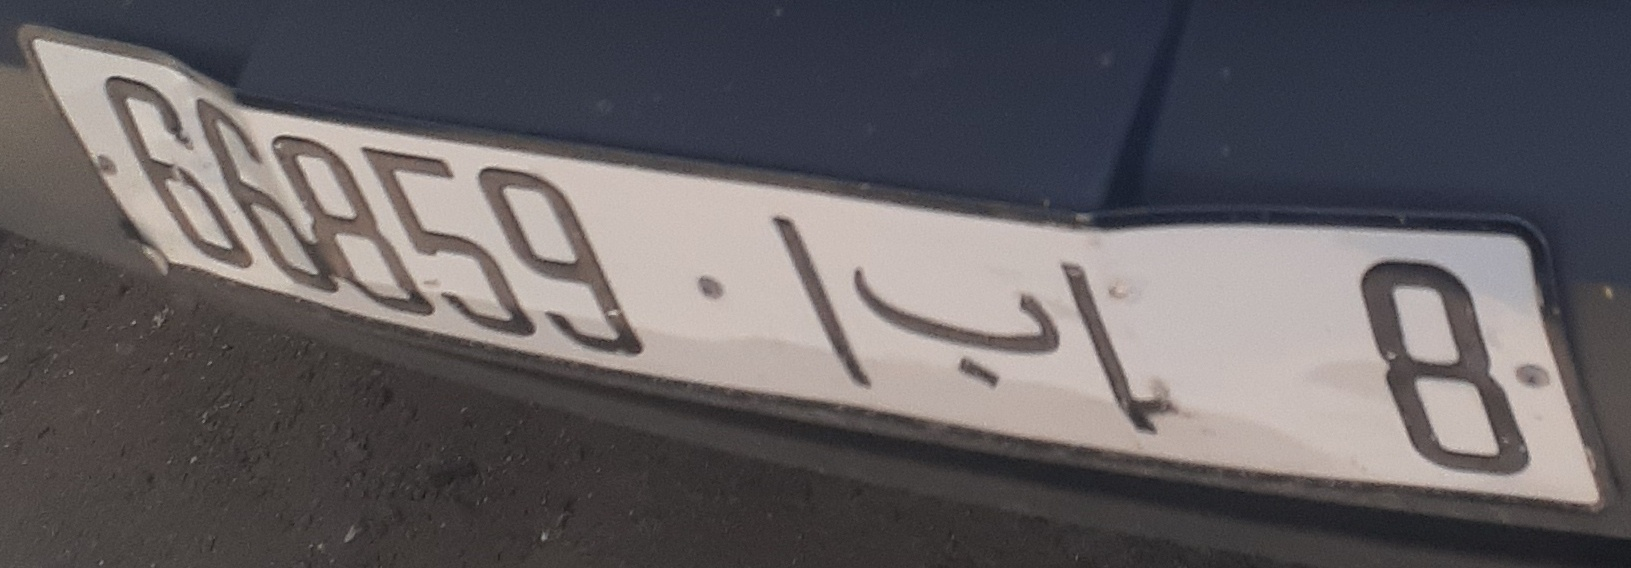5: (373, 134, 534, 353)
6: (168, 90, 334, 300), (96, 66, 255, 278)
8: (1345, 256, 1544, 490), (269, 119, 440, 336)
9: (474, 163, 652, 360)
b: (837, 239, 1083, 398)
